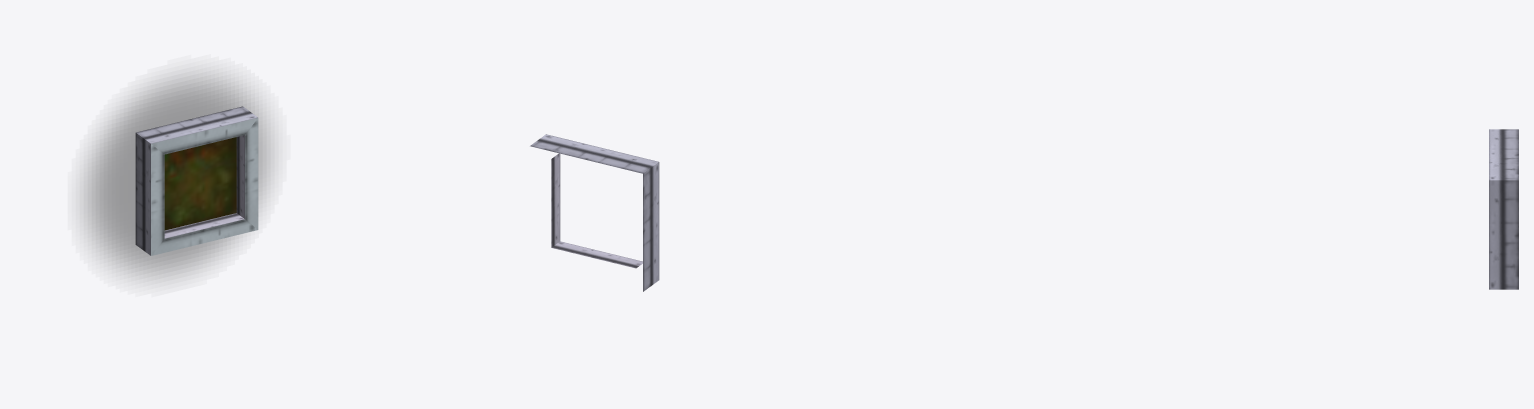
The model's file is prop_snow_tree_small_brickbox_ur.glb.
3 views of the same model, side by side, from view 1: azimuth 30°, elevation 25°; view 2: azimuth 150°, elevation 25°; view 3: azimuth 270°, elevation 25° (orthographic). The views are drawn at different scales.
Parts seen in each view (by area): view 1: tree_box_planter_bricks_3, shadow_snow_tree_small_brickbox_ur; view 2: tree_box_planter_bricks_3; view 3: tree_box_planter_bricks_3.
Boxes of the visible parts, left/top/right/bottom form: tree_box_planter_bricks_3: left=135, top=106, right=258, bottom=255; shadow_snow_tree_small_brickbox_ur: left=83, top=73, right=270, bottom=279; tree_box_planter_bricks_3: left=530, top=134, right=659, bottom=291; tree_box_planter_bricks_3: left=1489, top=129, right=1518, bottom=289.
Bounding box in the file's own units: 14.12 × 12.32 × 23.14.
4 materials, 4 textured.
